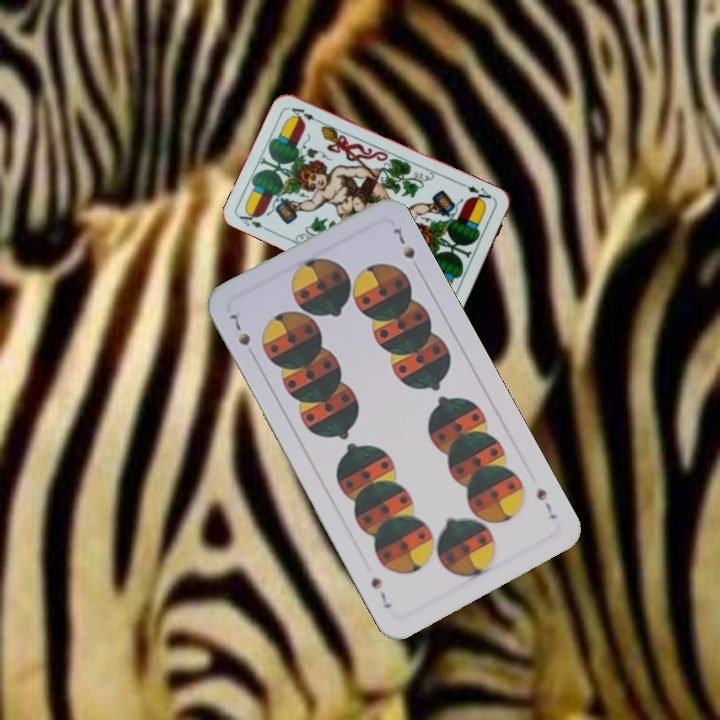EA: (235, 206, 274, 234), (458, 179, 497, 206)
S7: (225, 309, 253, 349), (532, 483, 560, 522)
